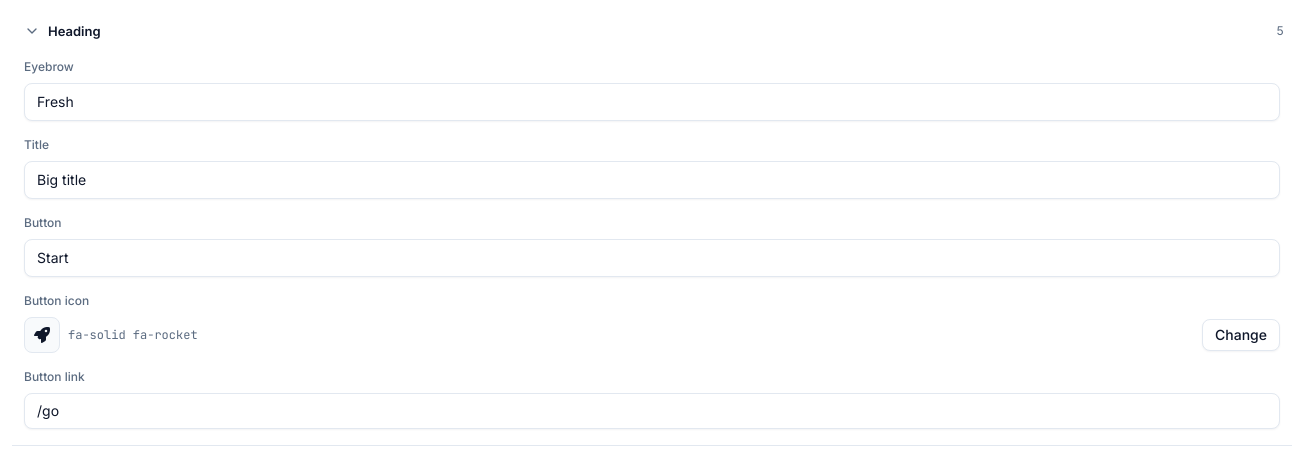
Test: TextPanel › shows the session's value and collapses groups
Expected: the text box labelled "Eyebrow" holds "Fresh", [24, 83, 1280, 121]
Click the button "Heading 5" at (74, 31), box [12, 12, 1284, 51]
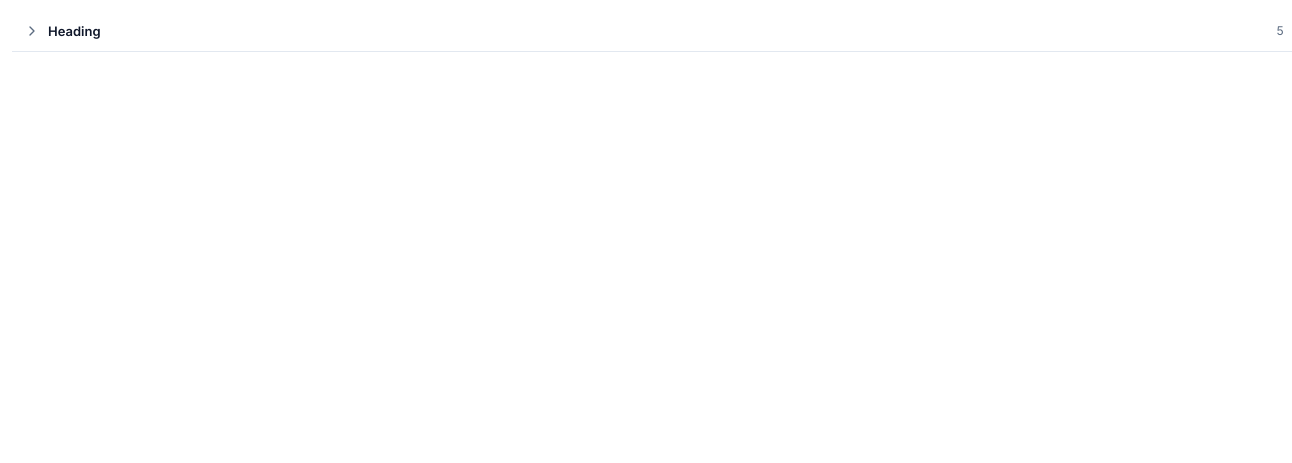
Now the text labelled "Eyebrow" is gone
